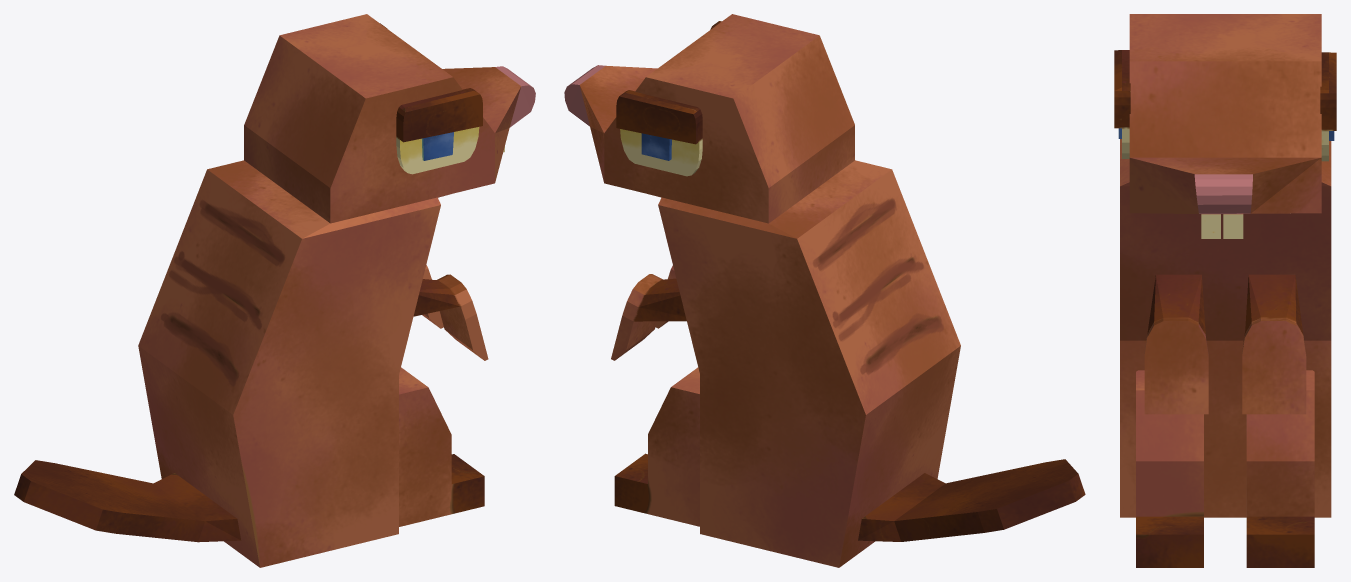
Rendered from beaverOne.glb.
3 views of the same model, side by side, from view 1: azimuth 30°, elevation 25°; view 2: azimuth 150°, elevation 25°; view 3: azimuth 270°, elevation 25° (orthographic). The views are drawn at different scales.
Parts seen in each view (by area): view 1: Cube; view 2: Cube; view 3: Cube.
Part boxes in pixels (x1,y1,x2,y2): Cube: (14,14,535,567); Cube: (564,14,1085,567); Cube: (1114,14,1336,567).
Bounding box in the file's own units: 6.13 × 5.1 × 2.11.
Materials: 1 (1 with a texture image).
